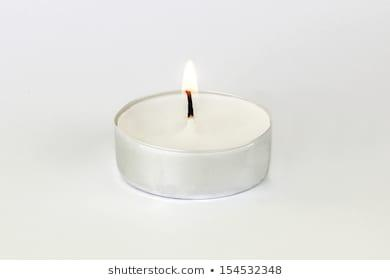fire: (175, 57, 200, 92)
